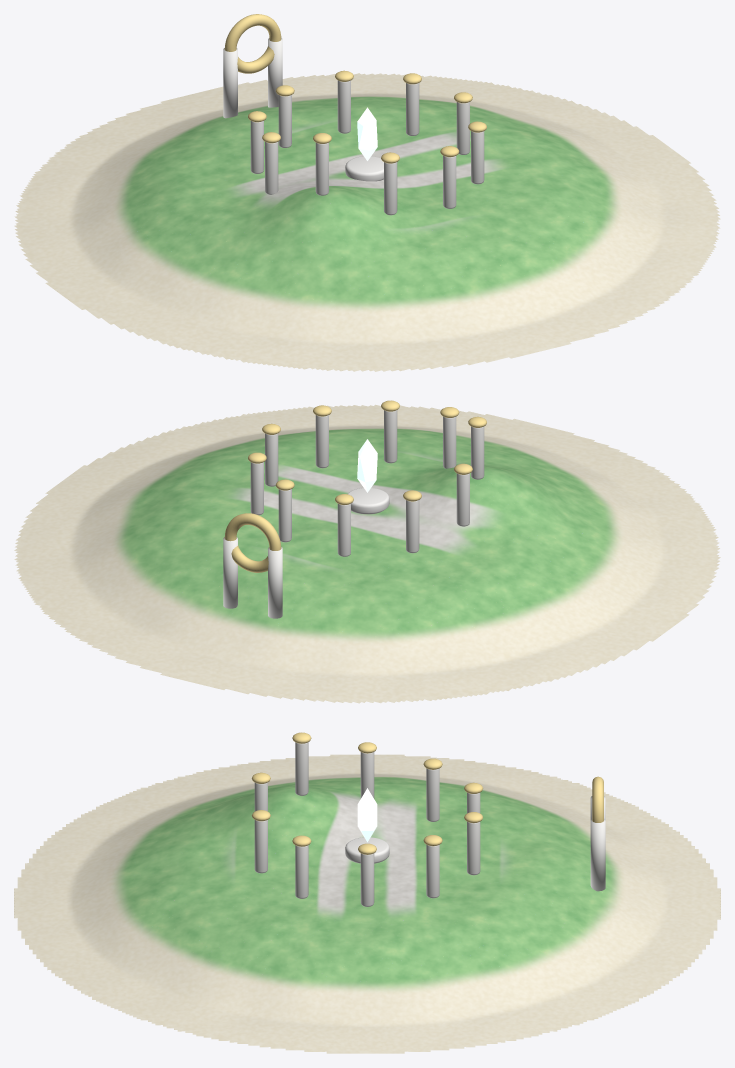
The model's file is ilha_secreta.glb.
3 views of the same model, one above another, from view 1: azimuth 30°, elevation 25°; view 2: azimuth 150°, elevation 25°; view 3: azimuth 270°, elevation 25° (orthographic).
Parts seen in each view (by area): view 1: Ilha_Secreta, Cristal; view 2: Ilha_Secreta, Cristal; view 3: Ilha_Secreta, Cristal.
Boxes of the visible parts, x1,y1,x2,y2 form: Ilha_Secreta: (14,14,720,371); Cristal: (357,107,377,160); Ilha_Secreta: (14,400,720,703); Cristal: (357,439,377,492); Ilha_Secreta: (14,732,720,1053); Cristal: (357,788,377,842).
Bounding box in the file's own units: 1.9 × 0.3907 × 1.9.
Materials: 4 (1 with a texture image).
